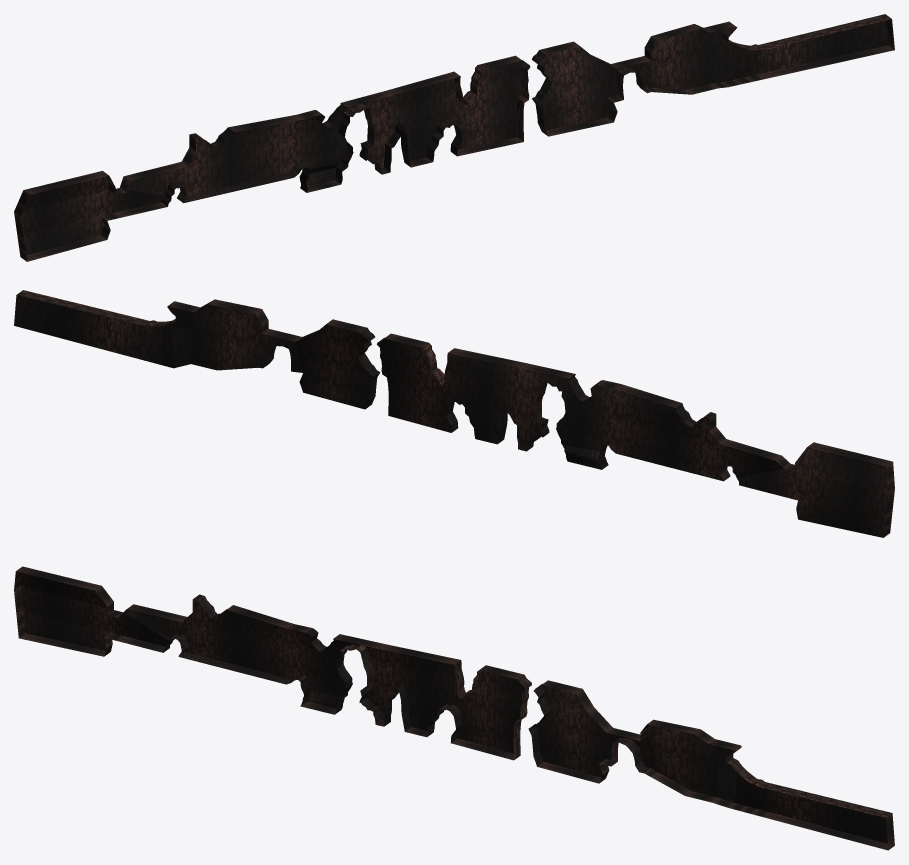
The model's file is Room6-BG1.fbx.
3 views of the same model, one above another, from view 1: azimuth 30°, elevation 25°; view 2: azimuth 150°, elevation 25°; view 3: azimuth 330°, elevation 25° (orthographic).
Parts seen in each view (by area): view 1: polySurface327; view 2: polySurface327; view 3: polySurface327.
Part boxes in pixels (x1,y1,x2,y2): polySurface327: (14,14,894,261); polySurface327: (14,290,894,537); polySurface327: (14,566,894,850).
Bounding box in the file's own units: 35.05 × 3.03 × 1.02.
